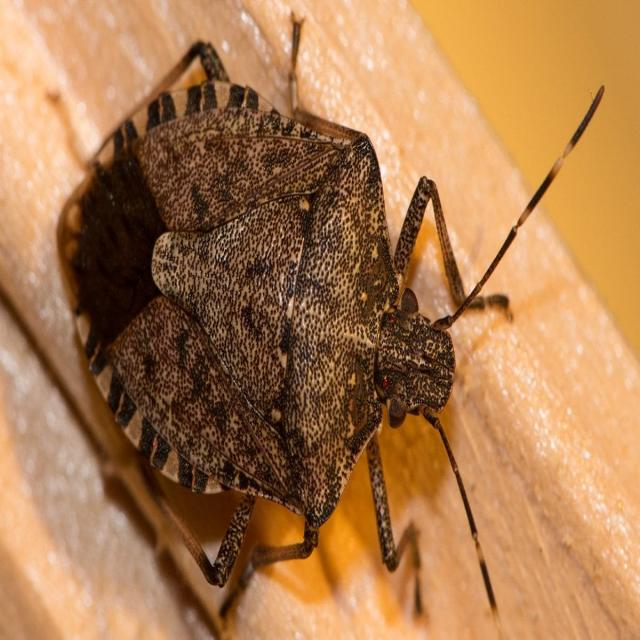stink_bug: (45, 18, 618, 616)
